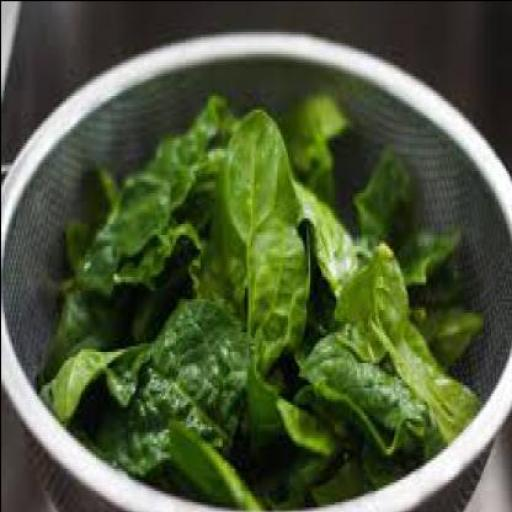biodegradable: (338, 234, 482, 442), (93, 286, 249, 476), (201, 106, 309, 300), (300, 322, 445, 466), (70, 161, 181, 298), (244, 358, 344, 476), (32, 273, 134, 381), (147, 92, 230, 220), (272, 83, 350, 209), (248, 209, 312, 361), (166, 414, 266, 510), (123, 225, 204, 342), (45, 336, 147, 418), (294, 172, 360, 296), (392, 225, 472, 304), (353, 142, 417, 236), (59, 153, 112, 262), (402, 303, 488, 370), (316, 437, 402, 501), (252, 460, 350, 509)
